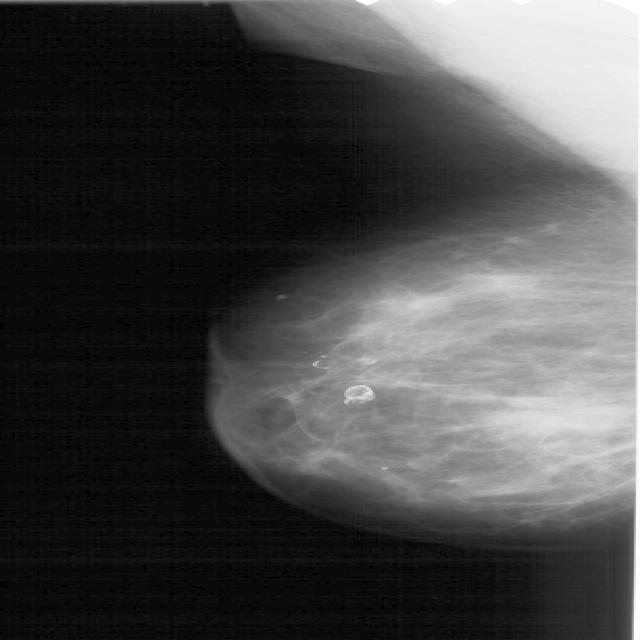tumour: (486, 394, 628, 439)
